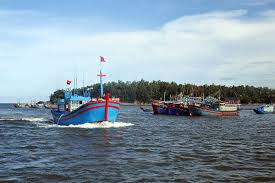tau_dansu: (46, 83, 121, 126), (190, 101, 244, 120), (254, 101, 275, 117), (174, 101, 192, 119)
